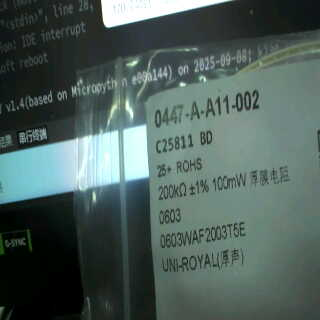200kR: (154, 180, 188, 206)
